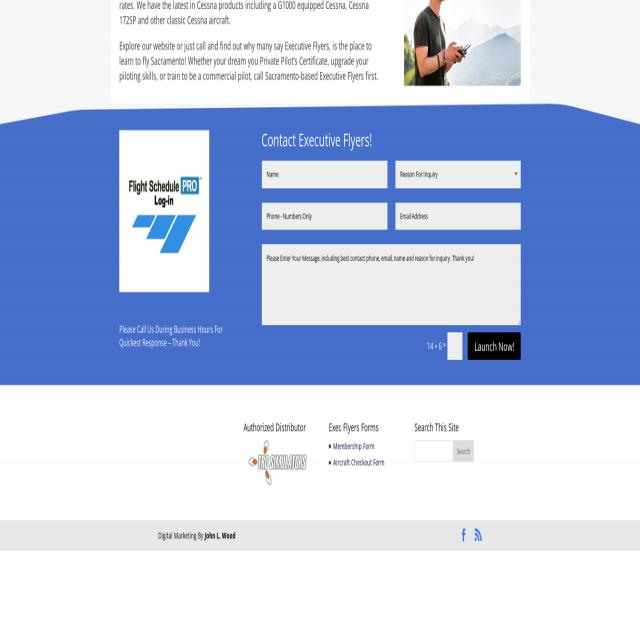button: (119, 130, 209, 292), (404, 0, 521, 86), (243, 440, 311, 485), (468, 332, 521, 360), (452, 440, 473, 462), (472, 524, 484, 548), (458, 524, 469, 547)
field: (262, 244, 520, 324), (262, 160, 388, 188), (395, 160, 521, 188), (262, 202, 388, 230), (395, 202, 521, 230), (414, 440, 474, 462), (448, 332, 462, 360)
